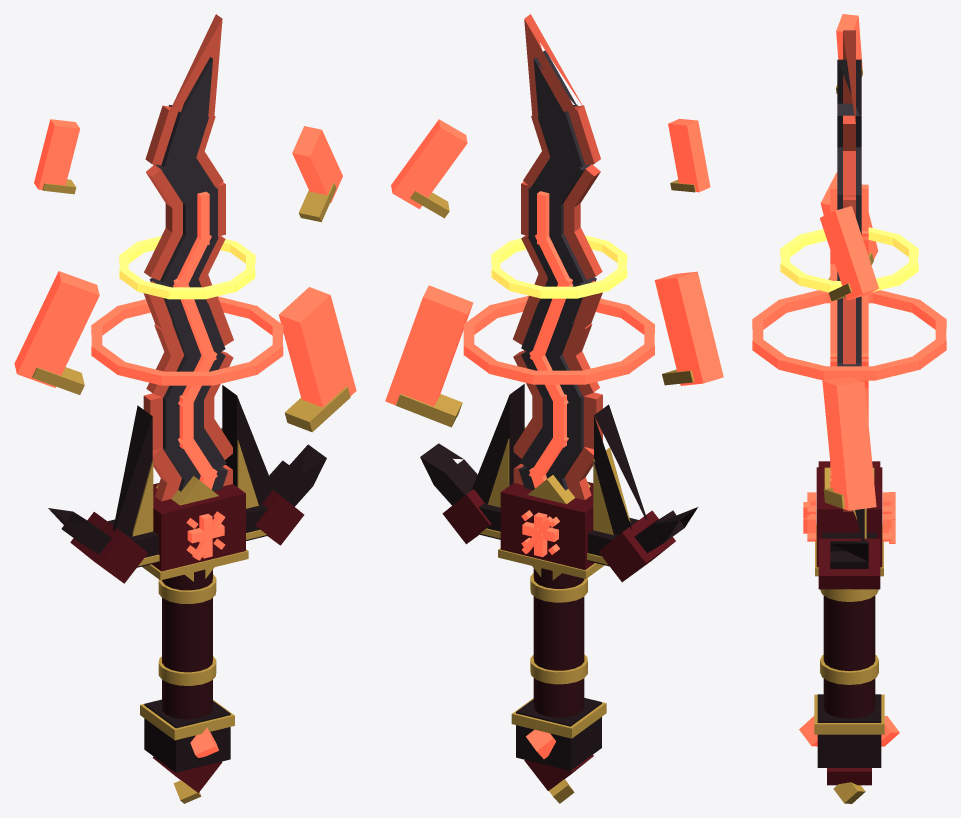
The picture shows the model from 3 angles, left to right: view 1: azimuth 30°, elevation 25°; view 2: azimuth 150°, elevation 25°; view 3: azimuth 270°, elevation 25°; orthographic projection.
Parts seen in each view (by area): view 1: crimson-eclipse-kris; view 2: crimson-eclipse-kris; view 3: crimson-eclipse-kris.
Boxes of the visible parts, bbox=[...] form: crimson-eclipse-kris: bbox=[14, 14, 356, 803]; crimson-eclipse-kris: bbox=[385, 14, 723, 803]; crimson-eclipse-kris: bbox=[752, 14, 946, 803].
Bounding box in the file's own units: 0.3396 × 0.7524 × 0.1677.
